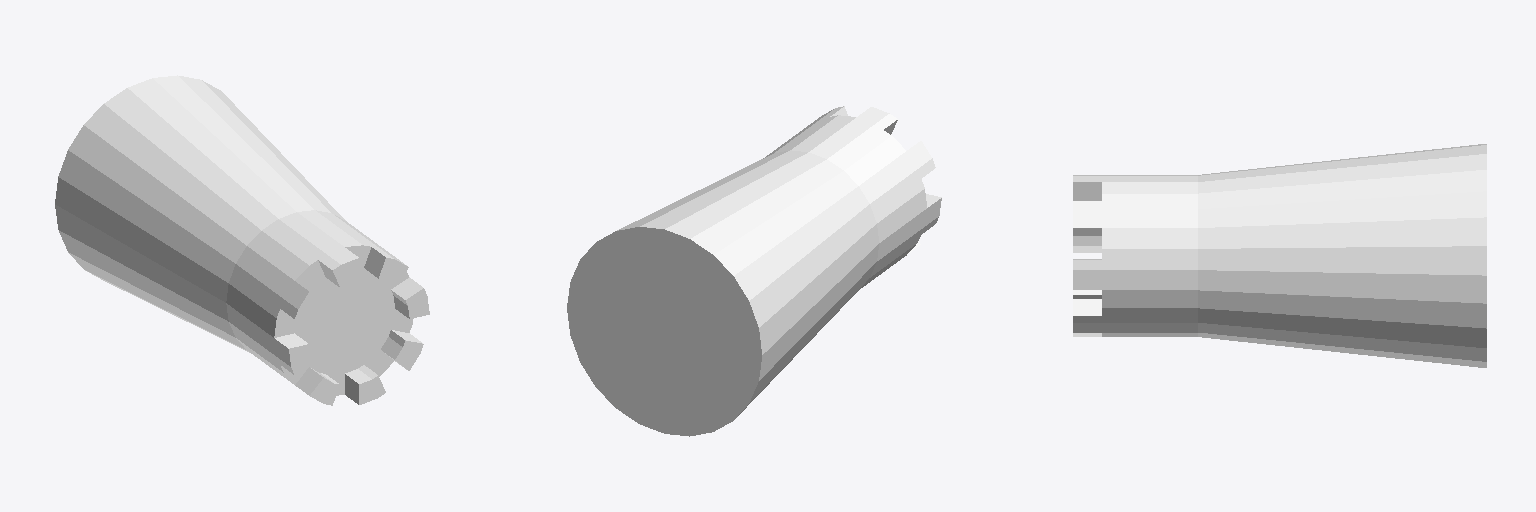
The model's file is tower.obj.
3 renders of one model, left to right at view 1: azimuth 30°, elevation 25°; view 2: azimuth 150°, elevation 25°; view 3: azimuth 270°, elevation 25°, orthographic.
Parts seen in each view (by area): view 1: Model; view 2: Model; view 3: Model.
Part boxes in pixels (x1,y1,x2,y2): Model: (55, 75, 429, 405); Model: (567, 106, 941, 436); Model: (1073, 144, 1486, 367).
Bounding box in the file's own units: 27.48 × 27.48 × 50.35.